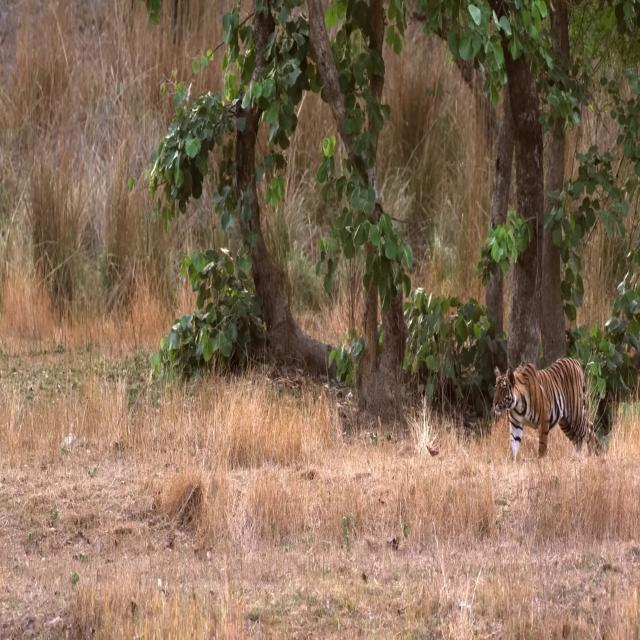tiger: (492, 358, 609, 462)
